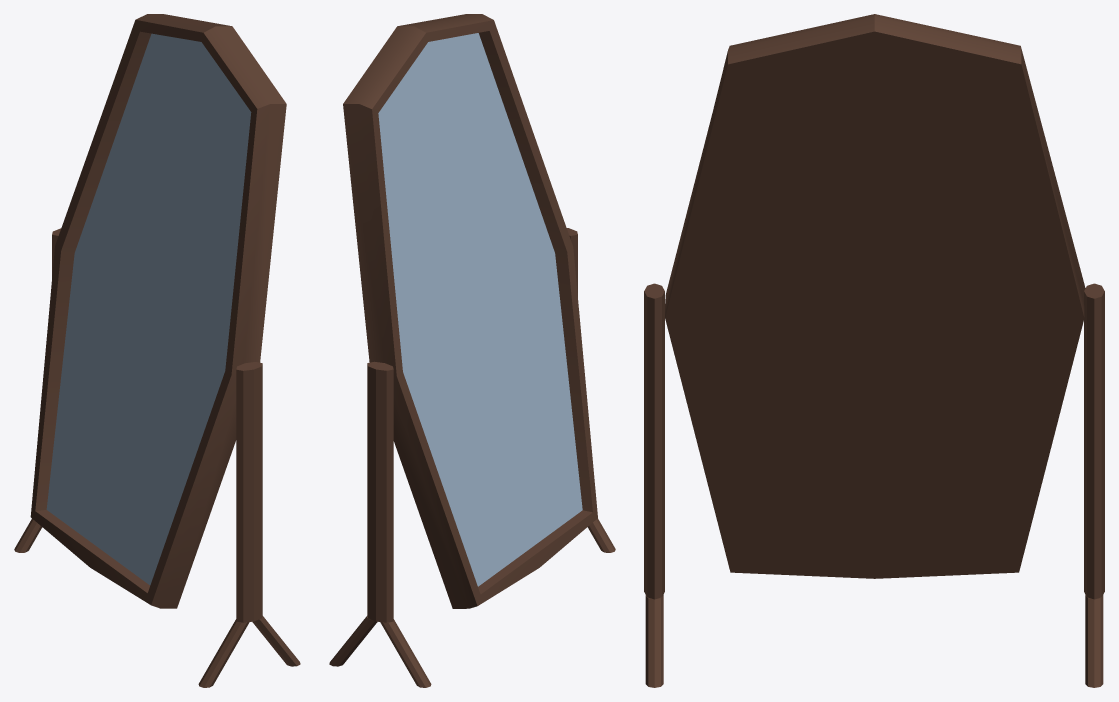
The model's file is mirror.fbx.
3 renders of one model, left to right at view 1: azimuth 30°, elevation 25°; view 2: azimuth 150°, elevation 25°; view 3: azimuth 270°, elevation 25°, orthographic. The views are drawn at different scales.
Visible parts, largest first — view 1: polySurface3; view 2: polySurface3; view 3: polySurface3.
Boxes of the visible parts, left/top/right/bottom form: polySurface3: left=14, top=14, right=300, bottom=687; polySurface3: left=329, top=14, right=615, bottom=687; polySurface3: left=644, top=14, right=1104, bottom=687.
Bounding box in the file's own units: 0.6214 × 2.36 × 1.46.
